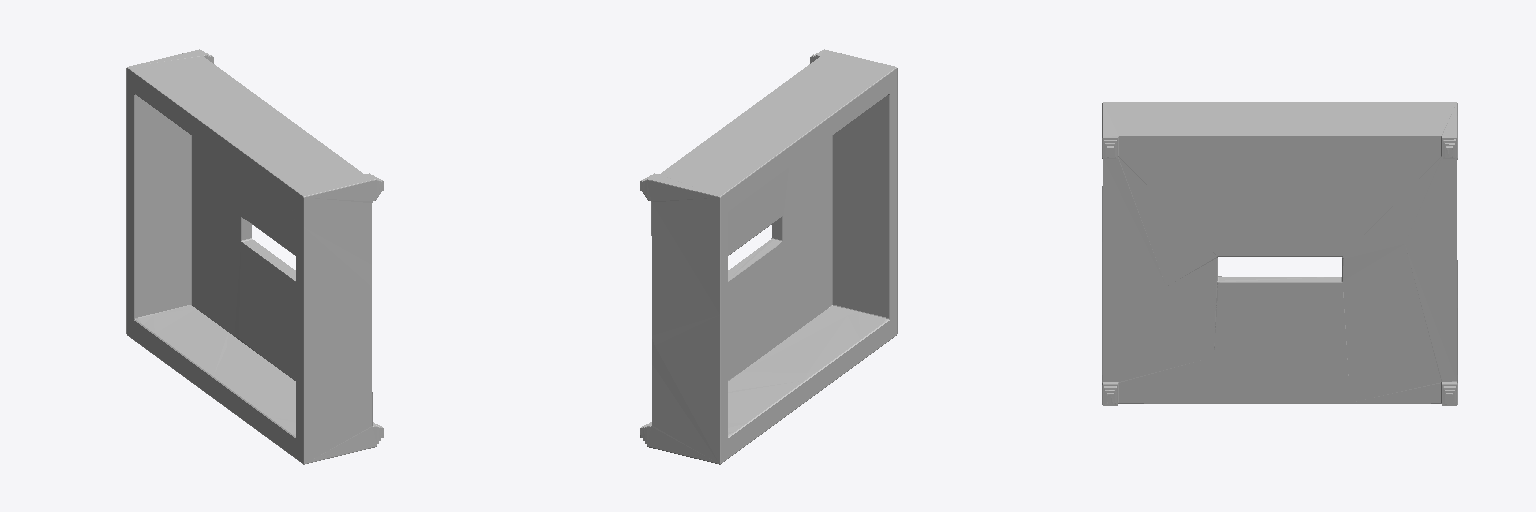
File: tinker.obj
The picture shows the model from 3 angles: view 1: azimuth 30°, elevation 25°; view 2: azimuth 150°, elevation 25°; view 3: azimuth 270°, elevation 25°; orthographic projection.
Parts seen in each view (by area): view 1: obj_0.051; view 2: obj_0.051; view 3: obj_0.051.
Boxes of the visible parts, box(x1,y1,x2,y2) form: obj_0.051: box(126, 49, 383, 464); obj_0.051: box(640, 49, 897, 464); obj_0.051: box(1102, 102, 1457, 405).
Size of the model in its own units: 4 by 12.5 by 15.